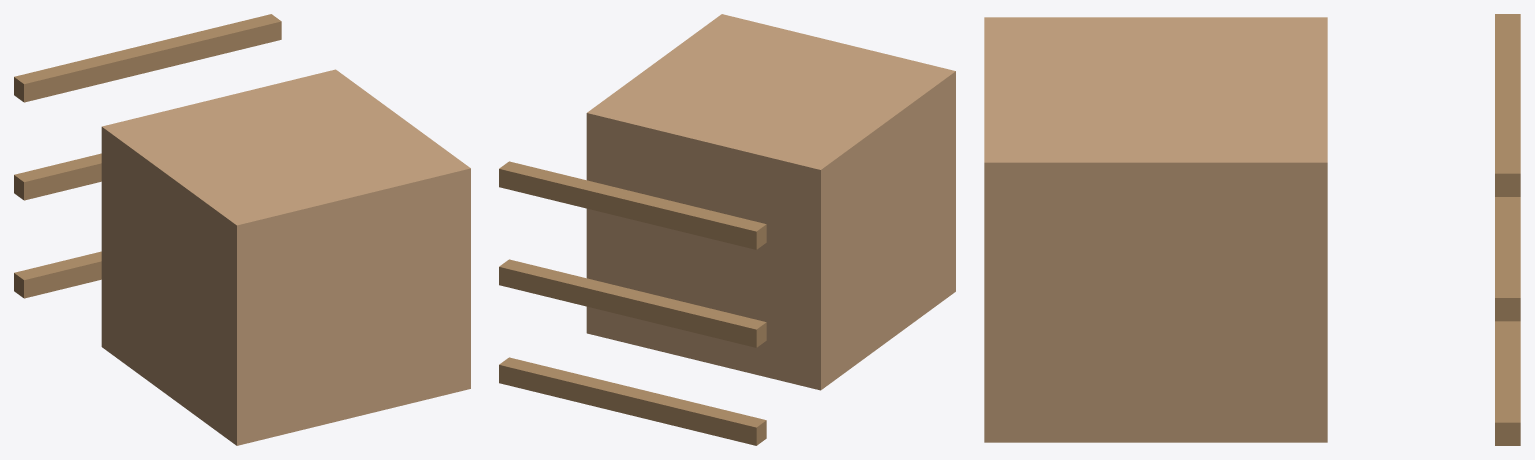
Rendered from pickup.crate.v2.glb.
3 views of the same model, side by side, from view 1: azimuth 30°, elevation 25°; view 2: azimuth 150°, elevation 25°; view 3: azimuth 270°, elevation 25° (orthographic). The views are drawn at different scales.
Parts seen in each view (by area): view 1: pickup.crate.v2_body, pickup.crate.v2_slat_2, pickup.crate.v2_slat_0, pickup.crate.v2_slat_1; view 2: pickup.crate.v2_body, pickup.crate.v2_slat_0, pickup.crate.v2_slat_2, pickup.crate.v2_slat_1; view 3: pickup.crate.v2_body, pickup.crate.v2_slat_2, pickup.crate.v2_slat_0, pickup.crate.v2_slat_1.
Part boxes in pixels (left/top/right/bottom): pickup.crate.v2_body: left=101, top=69, right=470, bottom=445; pickup.crate.v2_slat_2: left=14, top=14, right=281, bottom=102; pickup.crate.v2_slat_0: left=14, top=251, right=101, bottom=298; pickup.crate.v2_slat_1: left=14, top=153, right=101, bottom=200; pickup.crate.v2_body: left=586, top=14, right=955, bottom=390; pickup.crate.v2_slat_0: left=499, top=357, right=766, bottom=445; pickup.crate.v2_slat_2: left=499, top=161, right=766, bottom=249; pickup.crate.v2_slat_1: left=499, top=259, right=766, bottom=347; pickup.crate.v2_body: left=984, top=17, right=1327, bottom=442; pickup.crate.v2_slat_2: left=1495, top=14, right=1520, bottom=196; pickup.crate.v2_slat_0: left=1495, top=321, right=1520, bottom=445; pickup.crate.v2_slat_1: left=1495, top=197, right=1520, bottom=321.
Bounding box in the file's own units: 0.22 × 0.18 × 0.3125.
